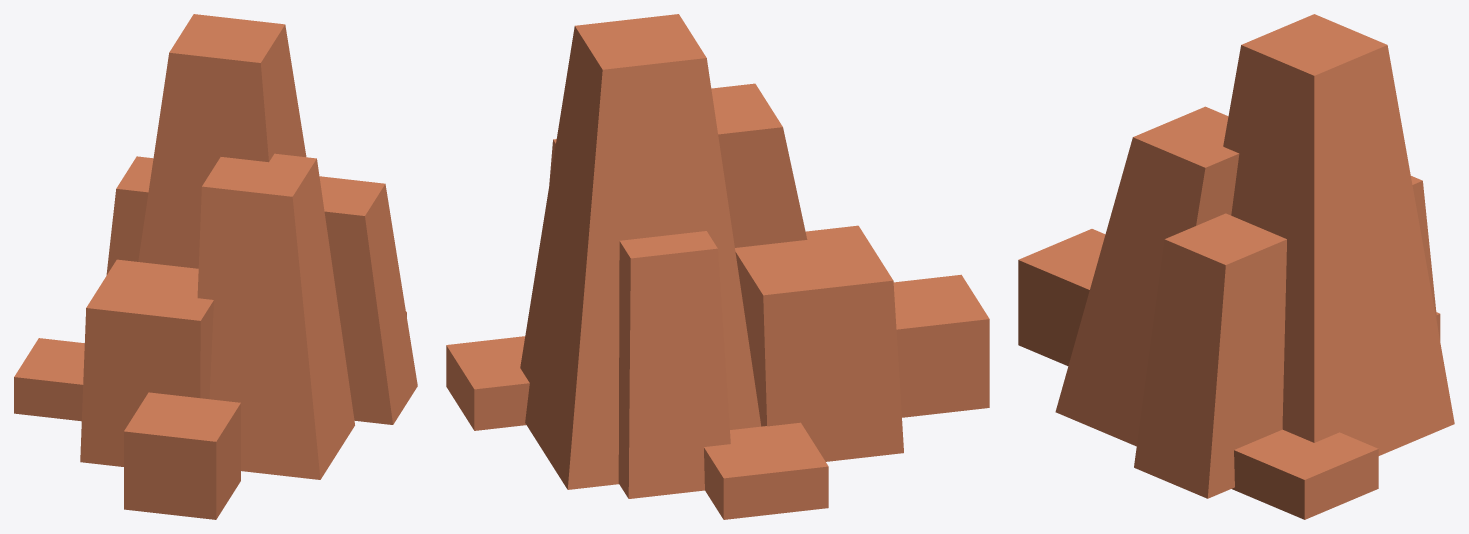
File: rock03.glb
3 views of the same model, side by side, from view 1: azimuth 30°, elevation 25°; view 2: azimuth 150°, elevation 25°; view 3: azimuth 270°, elevation 25° (orthographic). The views are drawn at different scales.
Visible parts, largest first — view 1: rock_03; view 2: rock_03; view 3: rock_03.
Part boxes in pixels (left/top/right/bottom): rock_03: left=14, top=14, right=417, bottom=519; rock_03: left=446, top=14, right=989, bottom=519; rock_03: left=1018, top=14, right=1454, bottom=519.
Bounding box in the file's own units: 3.58 × 3.14 × 3.26.
Materials: 1 (1 with a texture image).
